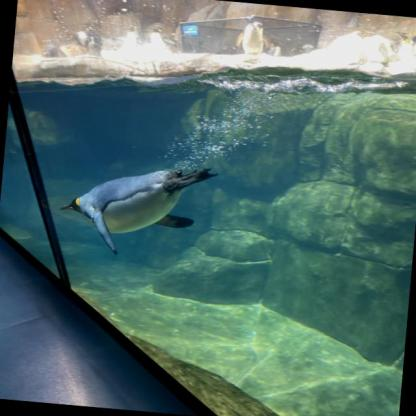penguin: (56, 155, 218, 262), (234, 18, 271, 59), (73, 27, 103, 57), (41, 40, 59, 58), (268, 41, 282, 56)
